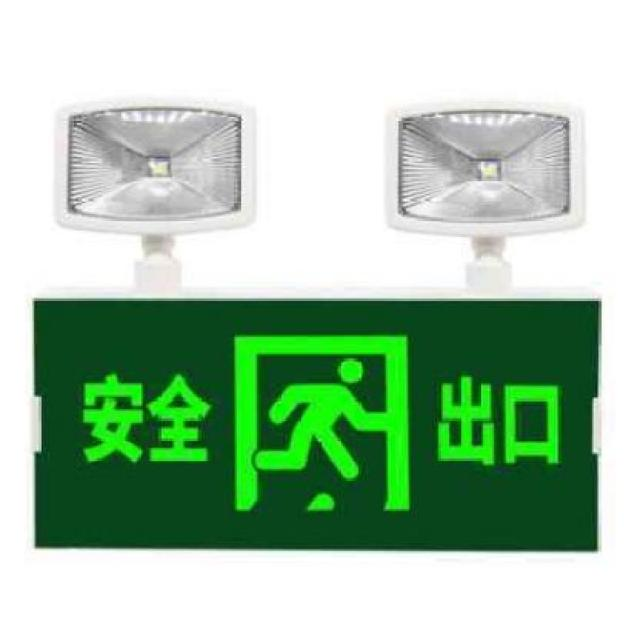exit_sign: (22, 285, 599, 553)
